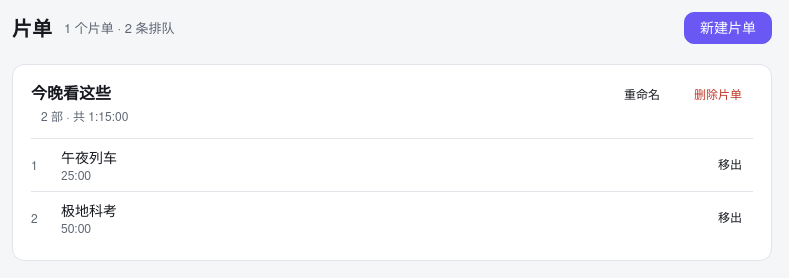
Watchlists view › takes a title out of the queue without dropping it from the library
Click the 1st button "移出" at (730,165), box [707, 153, 753, 177]
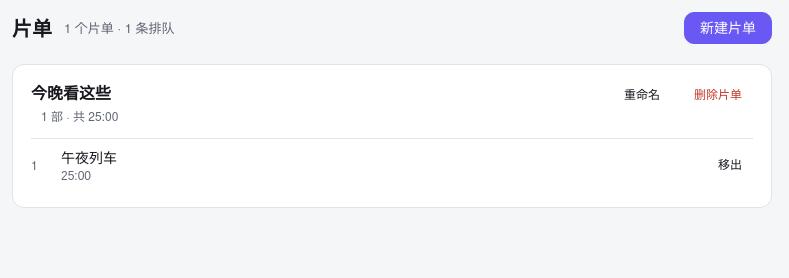
Now the number of list items is 1, box [31, 138, 753, 191]
Now the text "1 个片单 · 1 条排队" is shown, box [64, 18, 174, 37]
